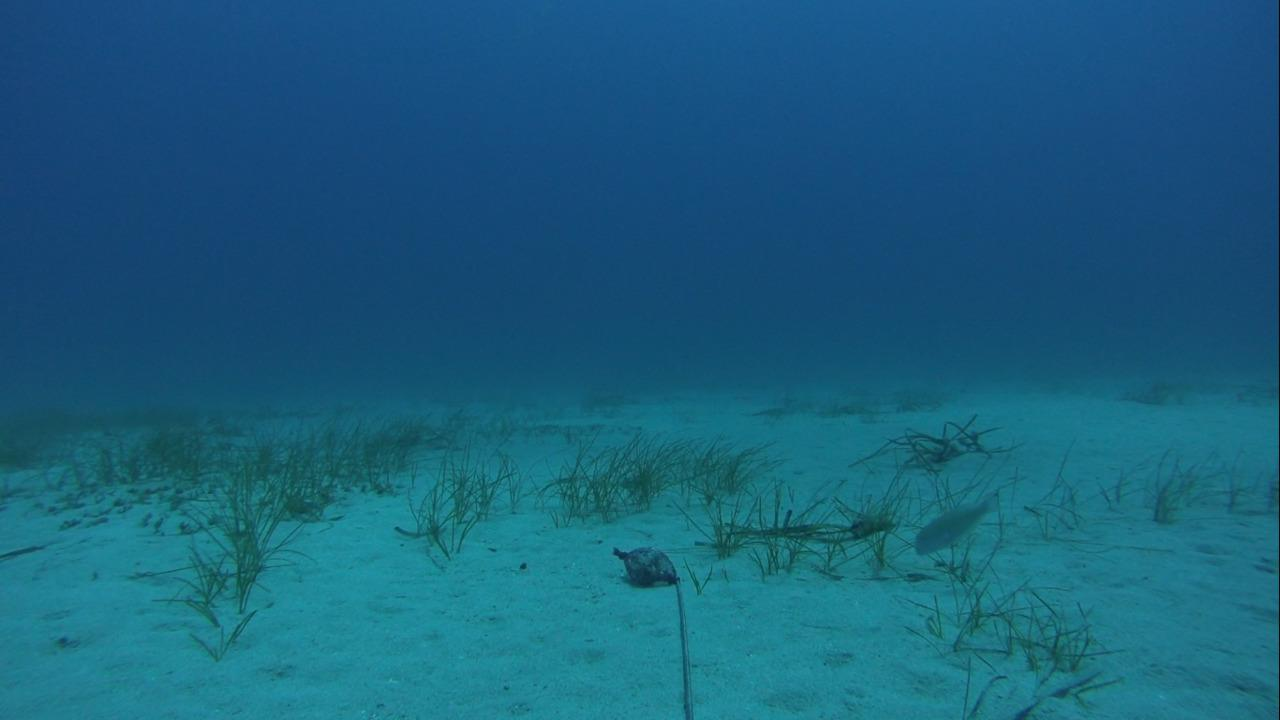raor: (912, 495, 999, 554)
